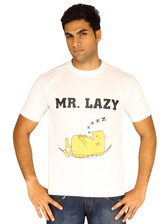clothoes: (17, 56, 158, 203)
